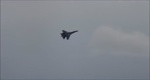maybay_muctieu: (61, 29, 79, 42)
